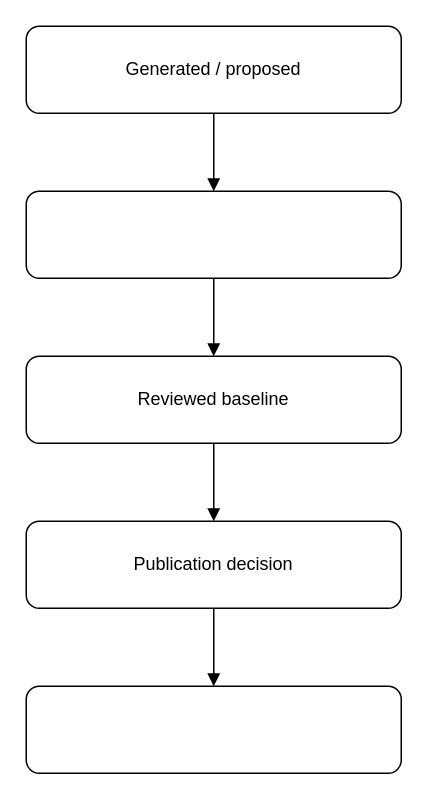
Image size: 428x800. Some labels were removed from this diagram. Each missing label, with the centre of its shape:
Human review: (213,234)
Published baseline: (213,729)
